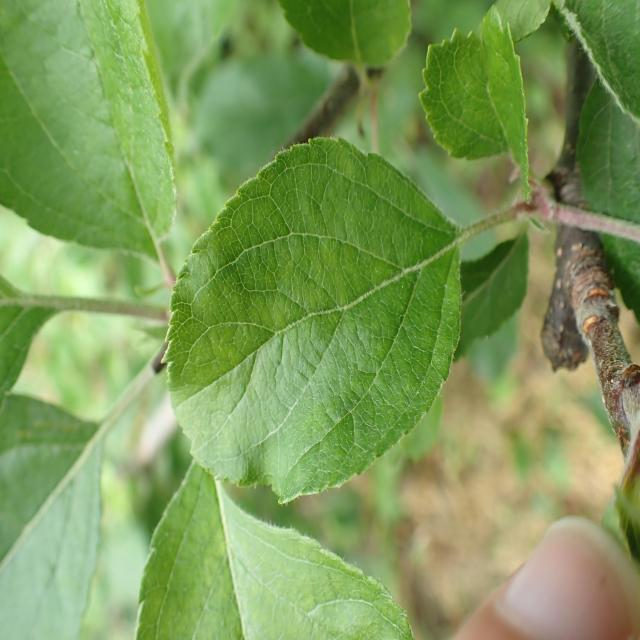healthy: (160, 135, 462, 507), (136, 461, 414, 640), (0, 0, 177, 260), (0, 394, 103, 640), (419, 3, 532, 211), (574, 67, 640, 319), (277, 0, 412, 67)
